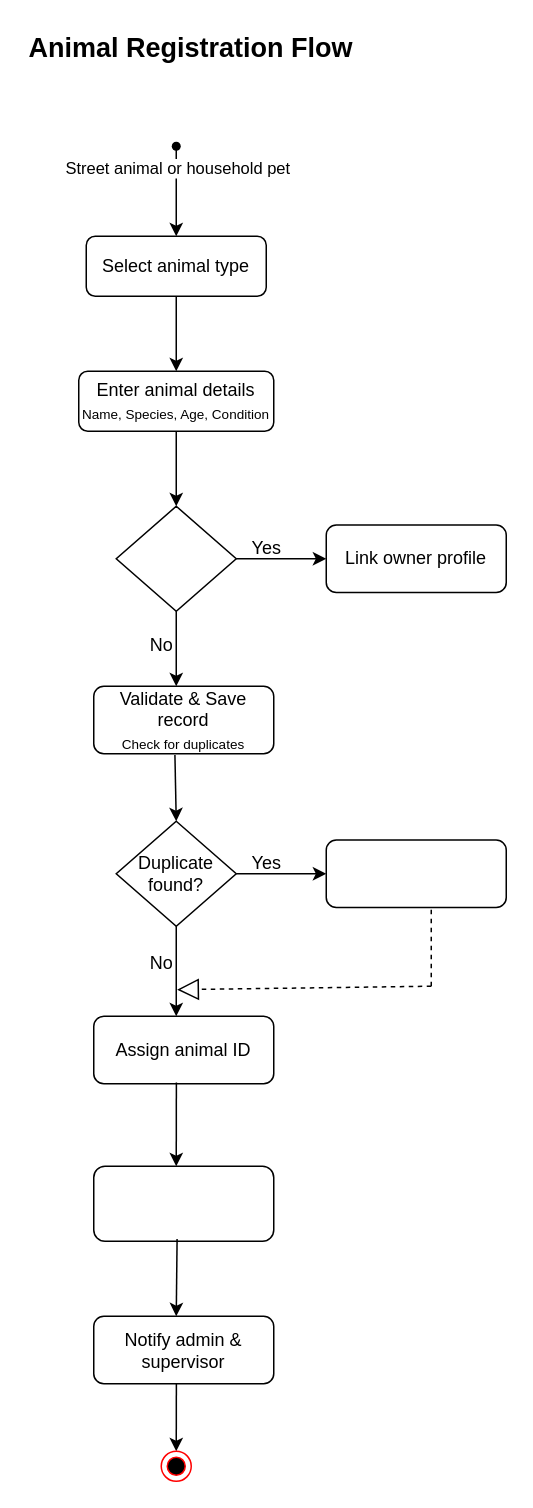
The diagram is 533 pixels wide and 1508 high, and some of its shapes have lost their labels. The centre of each missing label's shape, as x and y in pixels:
"Auto-create case record Status: open, priority set" goes at pixel 183 1203.
"Household pet?" goes at pixel 175 558.
"Show duplicate alert" goes at pixel 415 873.
